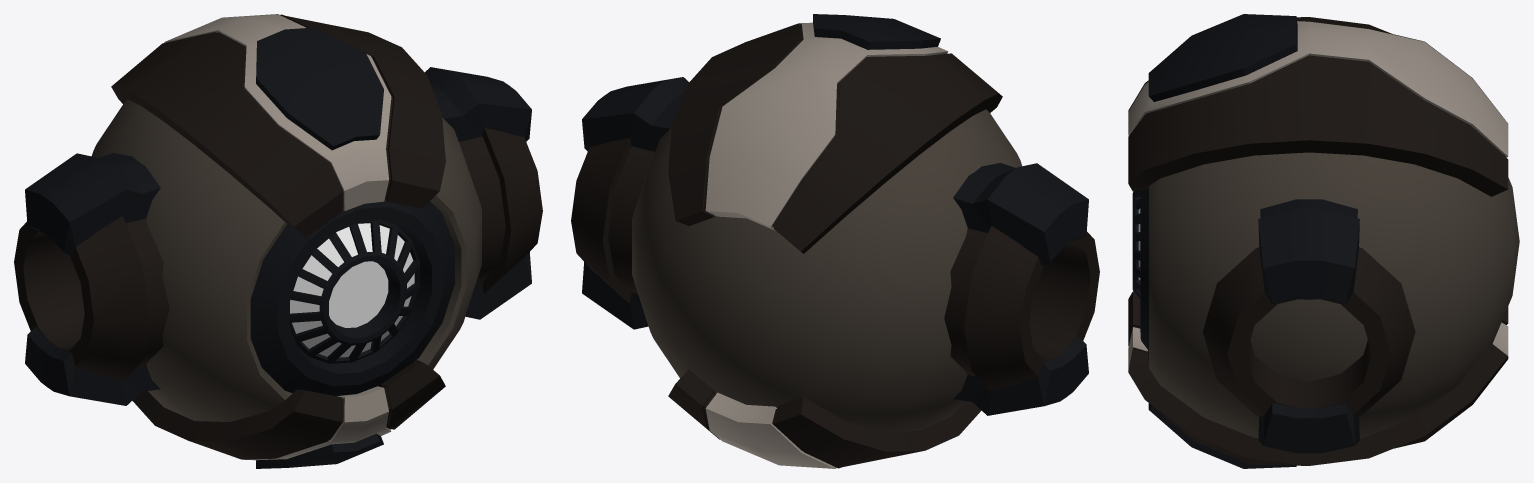
File: droneLaser.fbx
The picture shows the model from 3 angles, left to right: view 1: azimuth 30°, elevation 25°; view 2: azimuth 150°, elevation 25°; view 3: azimuth 270°, elevation 25°; orthographic projection. The views are drawn at different scales.
Parts seen in each view (by area): view 1: Sphere.001, Sphere.001_Piece.001, Cylinder, Cylinder_Piece; view 2: Sphere.001, Sphere.001_Piece.001, Cylinder, Cylinder_Piece; view 3: Sphere.001, Sphere.001_Piece.001, Cylinder, Cylinder_Piece.
Part boxes in pixels (<box>): Sphere.001: <box>92,99,481,421</box>; Sphere.001_Piece.001: <box>111,14,445,468</box>; Cylinder: <box>14,128,542,381</box>; Cylinder_Piece: <box>25,67,531,405</box>; Sphere.001: <box>632,109,1021,431</box>; Sphere.001_Piece.001: <box>668,14,1002,468</box>; Cylinder: <box>571,138,1099,390</box>; Cylinder_Piece: <box>582,77,1088,415</box>; Sphere.001: <box>1132,152,1519,438</box>; Sphere.001_Piece.001: <box>1128,14,1508,468</box>; Cylinder: <box>1202,247,1415,416</box>; Cylinder_Piece: <box>1258,199,1359,453</box>.
Size of the model in its own units: 0.7056 by 0.5017 by 0.6125.
